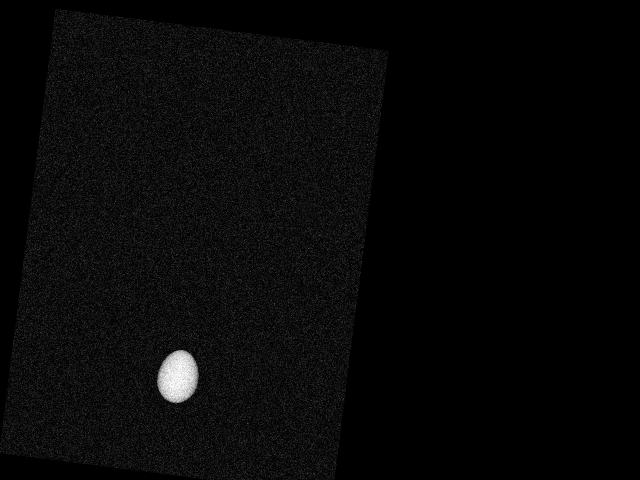egg: (154, 348, 202, 405)
